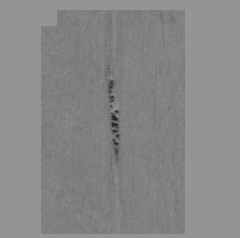oxl: (35, 10, 205, 228)
